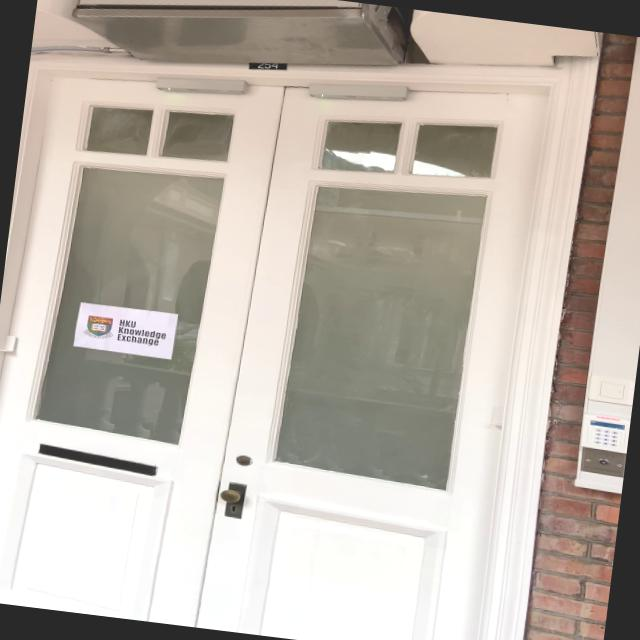room254: (244, 56, 290, 77)
